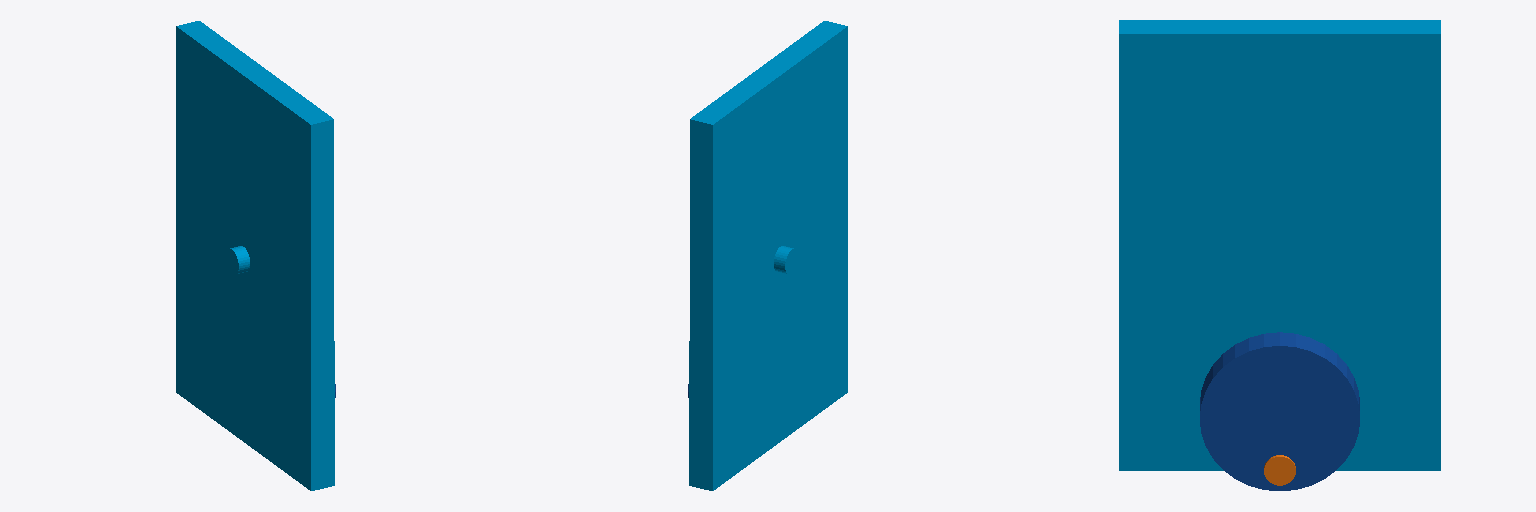
The robot description file, URDF, robot "platform":
<?xml version="1.0" ?>
<robot name="platform">

  <material name="industrial-blue">
    <color rgba="0.11372549019607843 0.34509803921568627 0.6549019607843137 1" />
  </material>

  <material name="arches-blue">
    <color rgba="0.0 0.6235294117647059 0.8313725490196079 1" />
  </material>

  <material name = "heritage-orange">
    <color rgba = "0.96078431 0.50980392 0.11764706 1" />
  </material>

  <link name="world"/>

  <link name="base_link">
    <visual>
      <origin rpy="0 0 0" xyz="0 0 0"/>
      <geometry>
  			<mesh filename="disc.stl" scale="0.1 0.1 0.1"/>
      </geometry>
      <material name="arches-blue"/>
    </visual>
    <collision>
      <origin rpy="0 0 0" xyz="0 0 0"/>
      <geometry>
        <cylinder radius="0.1" length="0.1"/>
      </geometry>
    </collision>
    <inertial>
      <origin rpy="0 0 0" xyz="0 0 0"/>
      <mass value="0"/>
      <inertia ixx="0" ixy="0" ixz="0" iyy="0" iyz="0" izz="0"/>
    </inertial>
  </link>

  <link name="platform_link">
    <visual>
      <origin rpy="0 0 0" xyz="0 0 0"/>
      <geometry>
  			<box size="3 2 0.2"/>
      </geometry>
      <material name = "arches-blue"/>
    </visual>
    <collision>
      <origin rpy="0 0 0" xyz="0 0 0"/>
      <geometry>
  			<box size="3 2 0.2"/>
      </geometry>
    </collision>
    <inertial>
      <origin rpy="0 0 0" xyz="0 0 0"/>
      <mass value="1.2"/>
      <inertia ixx="0.404" ixy="0" ixz="0" iyy="0.904" iyz="0" izz="1.3"/>
    </inertial>
  </link>

  <link name="connector_link">
    <visual>
      <origin rpy="0 0 0" xyz="0 0 0"/>
      <geometry>
  			<mesh filename="disc.stl" scale="0.1 0.1 0.1"/>
      </geometry>
      <material name="industrial-blue"/>
    </visual>
    <collision>
      <origin rpy="0 0 0" xyz="0 0 0"/>
      <geometry>
        <cylinder radius="0.1" length="0.1"/>
      </geometry>
    </collision>
    <inertial>
      <origin rpy="0 0 0" xyz="0 0 0"/>
      <mass value="0"/>
      <inertia ixx="0" ixy="0" ixz="0" iyy="0" iyz="0" izz="0"/>
    </inertial>
  </link>

  <link name="wheel_link">
    <visual>
      <origin rpy="0 0 0" xyz="0 0 0"/>
      <geometry>
  			<mesh filename="disc.stl" scale="0.5 0.5 0.2"/>
      </geometry>
      <material name = "industrial-blue"/>
    </visual>
    <collision>
      <origin rpy="0 0 0" xyz="0 0 0"/>
      <geometry>
        <cylinder radius="0.5" length="0.2"/>
      </geometry>
    </collision>
    <inertial>
      <origin rpy="0 0 0" xyz="0 0 0"/>
      <mass value="1.5708"/>
      <inertia ixx="0.103411" ixy="0" ixz="0" iyy="0.103411" iyz="0" izz="0.19635"/>
    </inertial>
  </link>

  <link name="fiducial_link">
    <visual>
      <origin rpy="0 0 0" xyz="0 0 0"/>
      <geometry>
  			<mesh filename="disc.stl" scale="0.1 0.1 0.04"/>
      </geometry>
      <material name = "heritage-orange"/>
    </visual>
    <inertial>
      <origin rpy="0 0 0" xyz="0 0 0"/>
      <mass value="0"/>
      <inertia ixx="0" ixy="0" ixz="0" iyy="0" iyz="0" izz="0"/>
    </inertial>
  </link>

  <joint name="world_to_base_fixed" type="fixed">
		<parent link = "world" />
		<child link = "base_link" />
    <origin xyz="0 0 0.05" rpy= "0 1.57 0" />
	</joint>

  <joint name="base_to_platform" type="continuous">
		<parent link = "base_link" />
		<child link = "platform_link" />
		<origin xyz = "0 0 0.15" />
		<axis xyz = "0 0 1" />
		<limit velocity="1000"/>
	</joint>

  <joint name="platform_to_connector_fixed" type="fixed">
		<parent link = "platform_link" />
		<child link = "connector_link" />
    <origin xyz = "1 0 0.15" />
	</joint>

  <joint name="connector_to_wheel" type="continuous">
		<parent link = "connector_link" />
		<child link = "wheel_link" />
		<origin xyz = "0 0 0.15" />
		<axis xyz = "0 0 1" />
		<limit effort="1000" velocity="1000"/>
	</joint>

  <joint name="wheel_to_fiducial_fixed" type="fixed">
		<parent link = "wheel_link" />
		<child link = "fiducial_link" />
    <origin xyz = "0.35 0 0.102" />
	</joint>

</robot>

--- Facts derived from the render (not from the file) ---
The picture shows the robot from 3 angles, left to right: view 1: azimuth 30°, elevation 25°; view 2: azimuth 150°, elevation 25°; view 3: azimuth 270°, elevation 25°; orthographic projection.
Model platform with 6 links and 5 joints (2 continuous, 3 fixed), rooted at world, posed every joint at zero.
Visible links, largest first — view 1: platform_link, base_link; view 2: platform_link, base_link; view 3: platform_link, wheel_link, fiducial_link.
Link boxes in pixels (box(x1,y1,x2,y2)): platform_link: box(176, 21, 334, 490); base_link: box(225, 246, 249, 274); platform_link: box(689, 21, 847, 490); base_link: box(774, 246, 798, 274); platform_link: box(1119, 20, 1440, 470); wheel_link: box(1200, 332, 1359, 490); fiducial_link: box(1264, 455, 1295, 485).
Size in the robot's own frame: 0.6232 by 2 by 3 metres.
4 mesh visuals loaded from 1 distinct referenced files (1 binary STL).